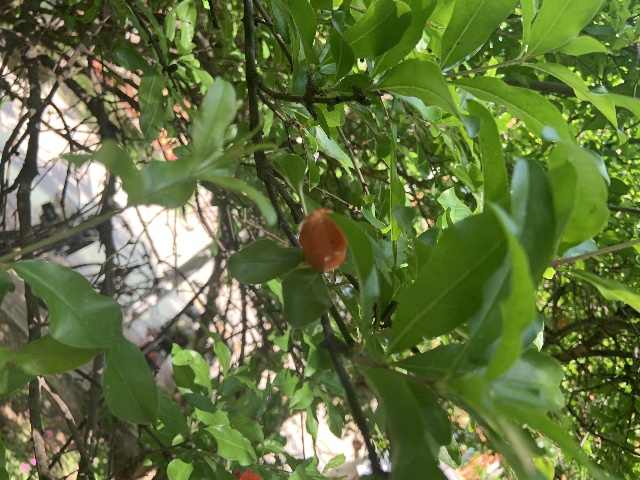bud: (299, 207, 347, 272)
